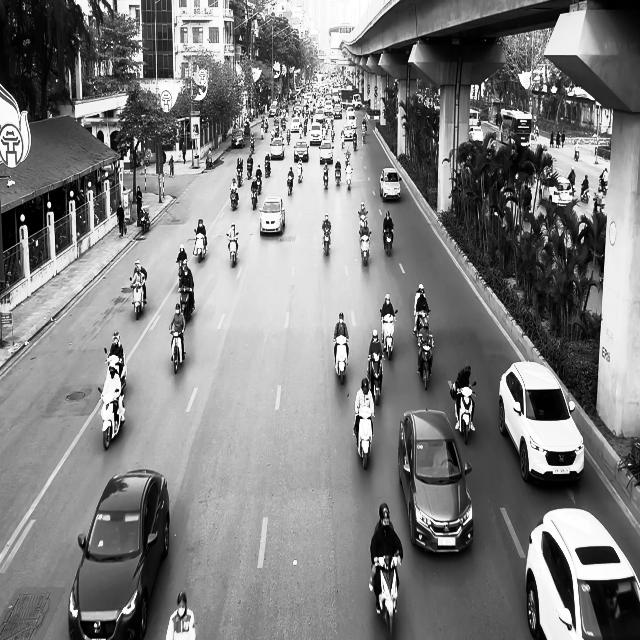bus: (500, 109, 532, 148)
car: (68, 468, 170, 640), (524, 507, 640, 639), (398, 407, 473, 555), (498, 360, 585, 484), (259, 196, 285, 235), (379, 167, 402, 201), (549, 176, 574, 207), (293, 140, 309, 162), (270, 136, 284, 160), (319, 140, 333, 164), (230, 128, 244, 148), (468, 126, 484, 142)
motorbike: (369, 554, 399, 639), (97, 384, 125, 450), (448, 380, 476, 444), (354, 405, 374, 470), (413, 329, 434, 390), (104, 347, 126, 393), (367, 354, 384, 405), (380, 308, 397, 359), (333, 334, 349, 384), (170, 326, 186, 374), (130, 274, 146, 320), (178, 287, 194, 321), (193, 228, 207, 262), (359, 230, 371, 266), (226, 233, 238, 267), (139, 205, 150, 234), (383, 227, 393, 257), (176, 259, 187, 285), (322, 226, 331, 255), (250, 182, 258, 210), (580, 182, 590, 202), (230, 188, 239, 210), (345, 163, 352, 190), (323, 160, 329, 189), (236, 164, 243, 187), (297, 160, 303, 183), (335, 162, 341, 185), (287, 176, 293, 196), (264, 160, 270, 178)
